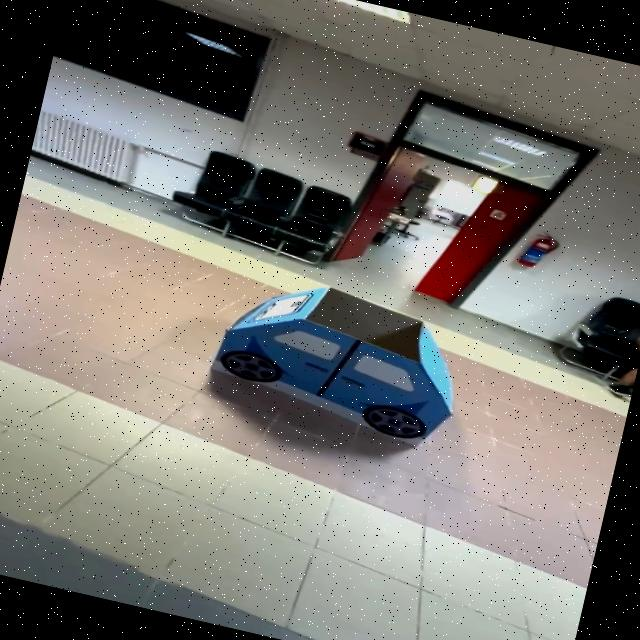blue_car: (199, 251, 505, 472)
